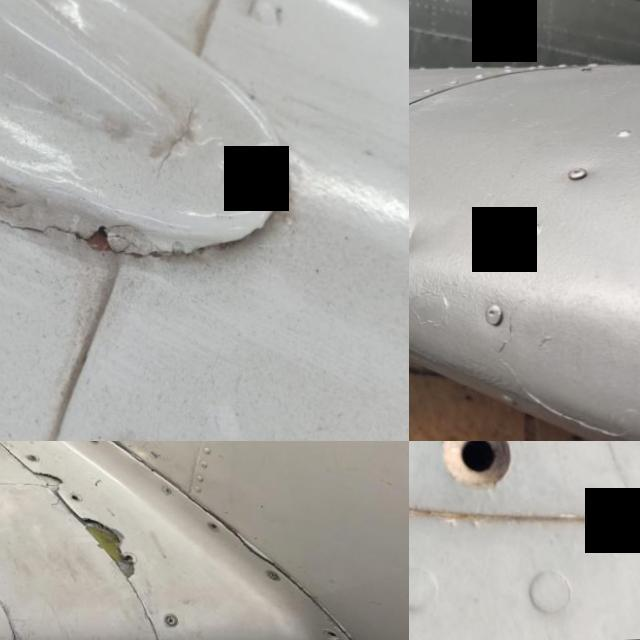Crack: (0, 65, 305, 323), (66, 518, 136, 584), (213, 531, 269, 569), (21, 472, 59, 497)
Dent: (409, 186, 457, 285)
Missing_Fastener: (409, 441, 540, 532), (60, 493, 76, 506), (198, 525, 212, 538), (312, 631, 331, 640), (77, 441, 95, 447)
